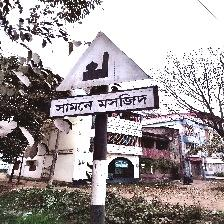Mosque in front: (51, 31, 159, 120)
